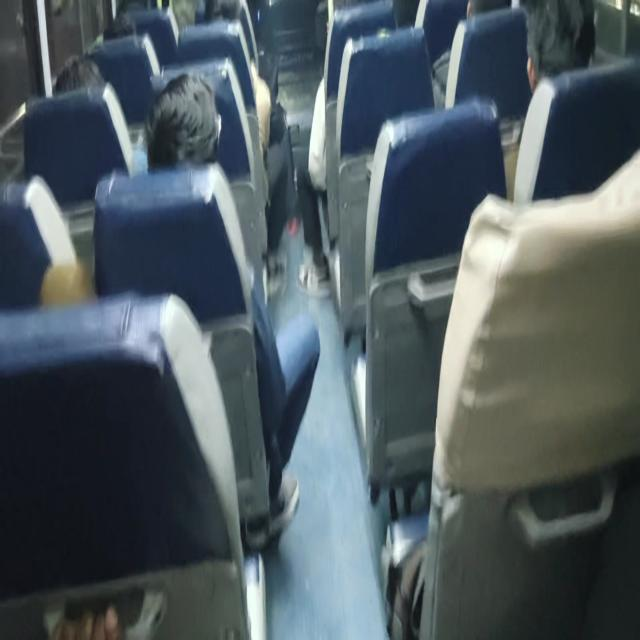person: (144, 70, 321, 546), (53, 53, 135, 173), (144, 71, 222, 171), (521, 0, 596, 95), (53, 53, 106, 96)
